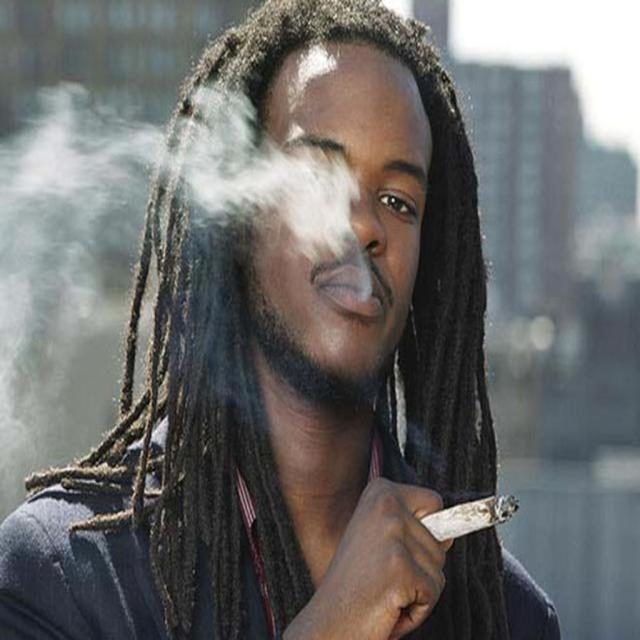smoking: (419, 491, 522, 544)
